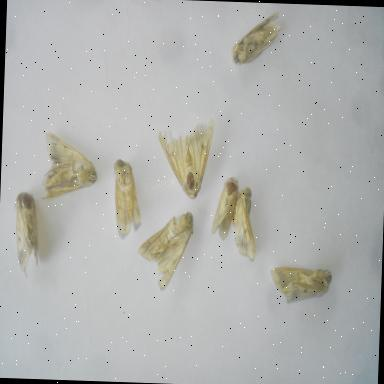abw: (151, 110, 219, 206), (133, 205, 199, 293), (36, 127, 104, 208), (265, 258, 337, 314), (106, 152, 149, 244), (228, 5, 286, 70), (7, 184, 44, 280), (228, 178, 262, 267), (206, 170, 244, 247)
